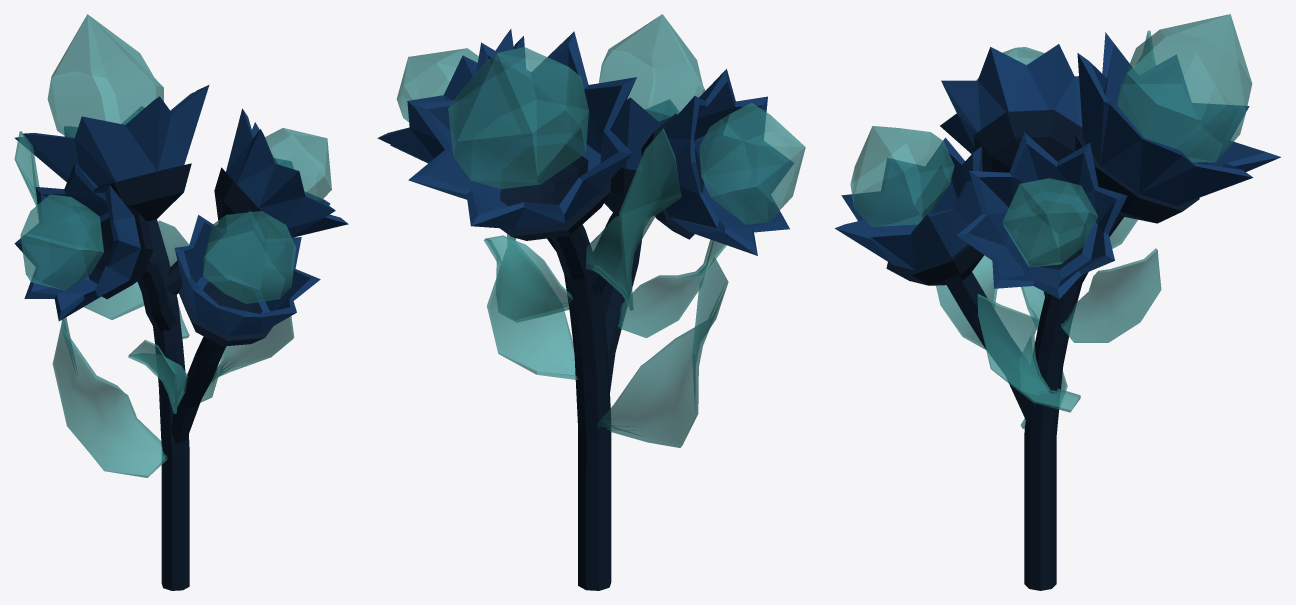
File: obj_plant_stg2_crystal.FBX
3 renders of one model, left to right at view 1: azimuth 30°, elevation 25°; view 2: azimuth 150°, elevation 25°; view 3: azimuth 270°, elevation 25°, orthographic. The views are drawn at different scales.
Parts seen in each view (by area): view 1: obj_plant_stg2_crystal; view 2: obj_plant_stg2_crystal; view 3: obj_plant_stg2_crystal.
Part boxes in pixels (<box>): obj_plant_stg2_crystal: <box>14,14,348,590</box>; obj_plant_stg2_crystal: <box>377,14,805,590</box>; obj_plant_stg2_crystal: <box>835,14,1280,590</box>.
Bounding box in the file's own units: 6.18 × 9.13 × 6.51.
